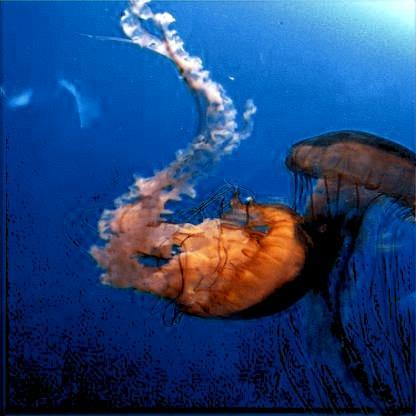Dressed: (98, 0, 321, 323), (287, 130, 414, 410)
